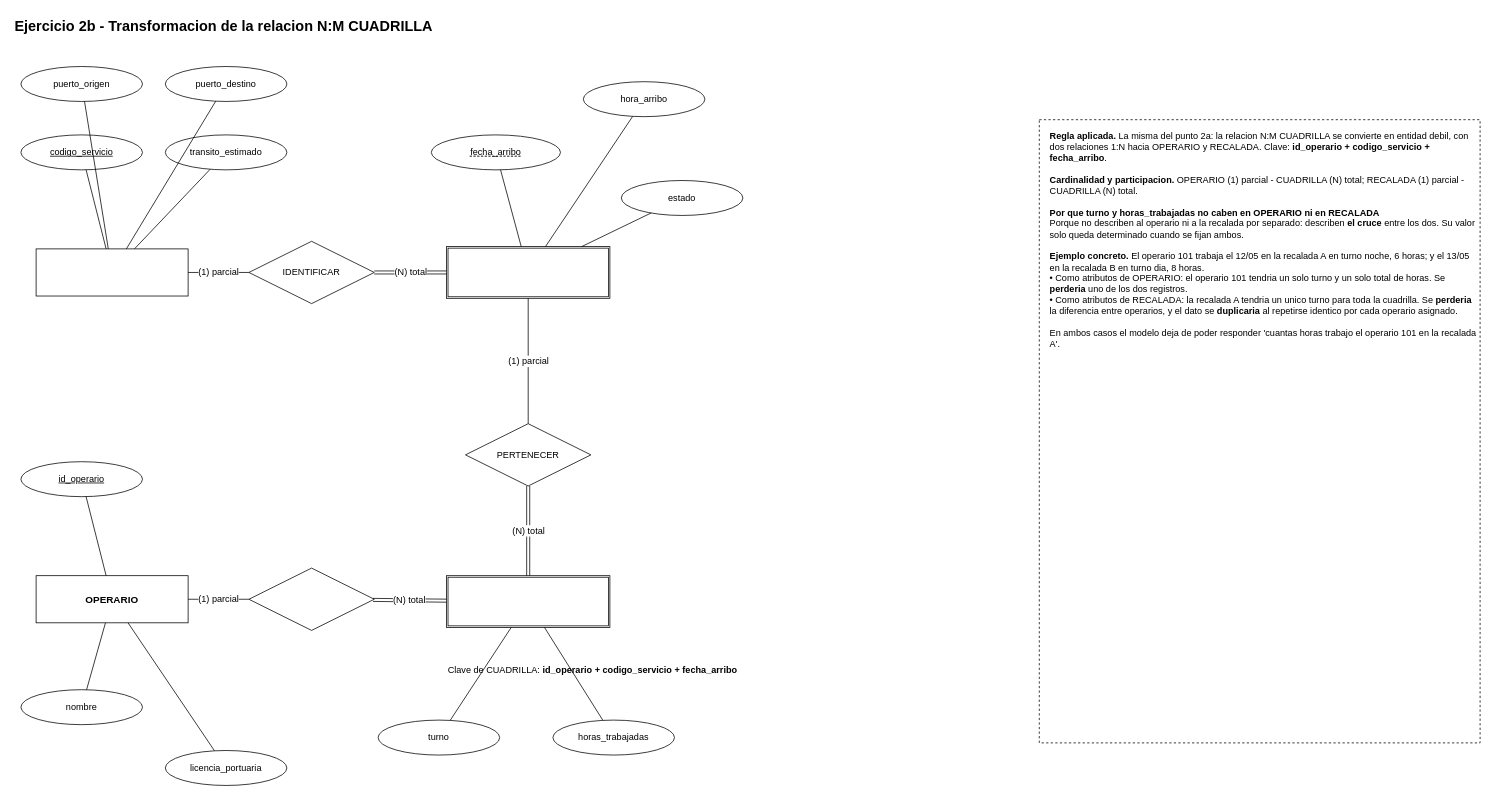
Some shapes in this 1493 by 799 pixel diagram are drawn without their labels. The centre of each missing label's shape, as x and y in pixels:
CUADRILLA: point (528, 601)
PARTICIPAR: point (311, 598)
RECALADA: point (528, 272)
SERVICIO: point (111, 272)
